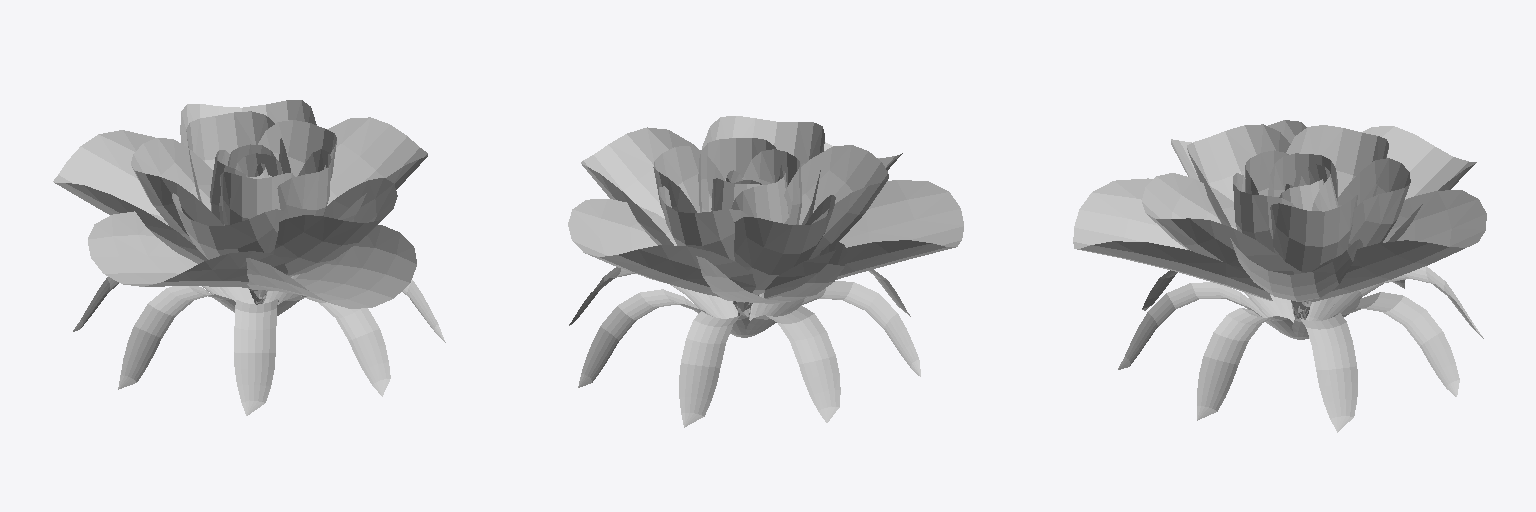
File: FlowerTopModel_03_seq_0035.obj
3 views of the same model, side by side, from view 1: azimuth 30°, elevation 25°; view 2: azimuth 150°, elevation 25°; view 3: azimuth 270°, elevation 25° (orthographic).
Parts seen in each view (by area): view 1: FlowerTopModel_03; view 2: FlowerTopModel_03; view 3: FlowerTopModel_03.
Boxes of the visible parts, x1,y1,x2,y2 form: FlowerTopModel_03: [53, 100, 445, 415]; FlowerTopModel_03: [568, 116, 963, 427]; FlowerTopModel_03: [1073, 120, 1486, 432].
Size of the model in its own units: 773 by 396 by 803.